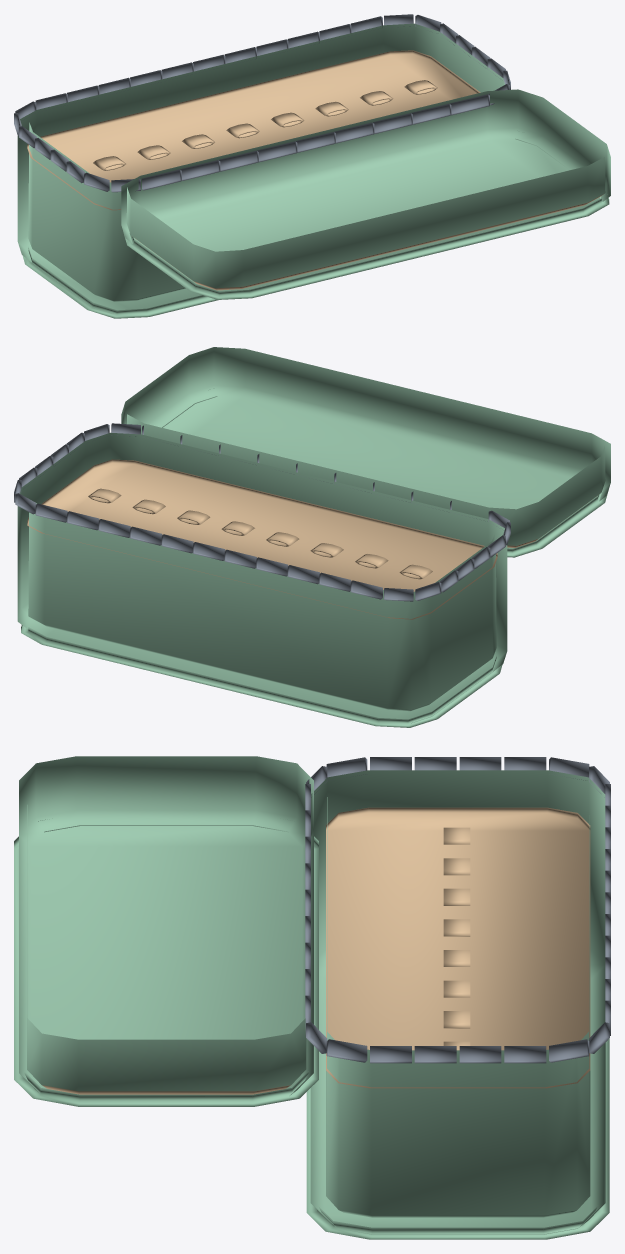
File: litterBox.glb
3 views of the same model, one above another, from view 1: azimuth 30°, elevation 25°; view 2: azimuth 150°, elevation 25°; view 3: azimuth 270°, elevation 25° (orthographic). The views are drawn at different scales.
Visible parts, largest first — view 1: container_bag_open.001; view 2: container_bag_open.001; view 3: container_bag_open.001.
Part boxes in pixels (bbox=[...]): container_bag_open.001: bbox=[14, 14, 610, 318]; container_bag_open.001: bbox=[14, 347, 610, 727]; container_bag_open.001: bbox=[14, 756, 610, 1239].
Bounding box in the file's own units: 22.7 × 7.2 × 19.64.
1 material, 1 textured.
